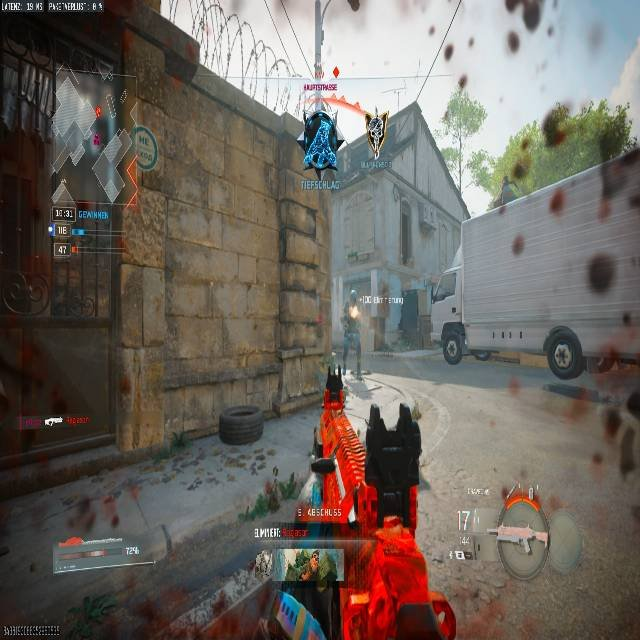player: (299, 106, 343, 182), (341, 306, 364, 365)
